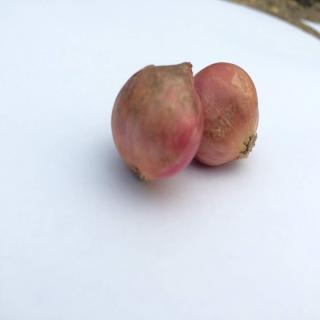Bawang Merah: (112, 62, 206, 182), (193, 62, 260, 167)
